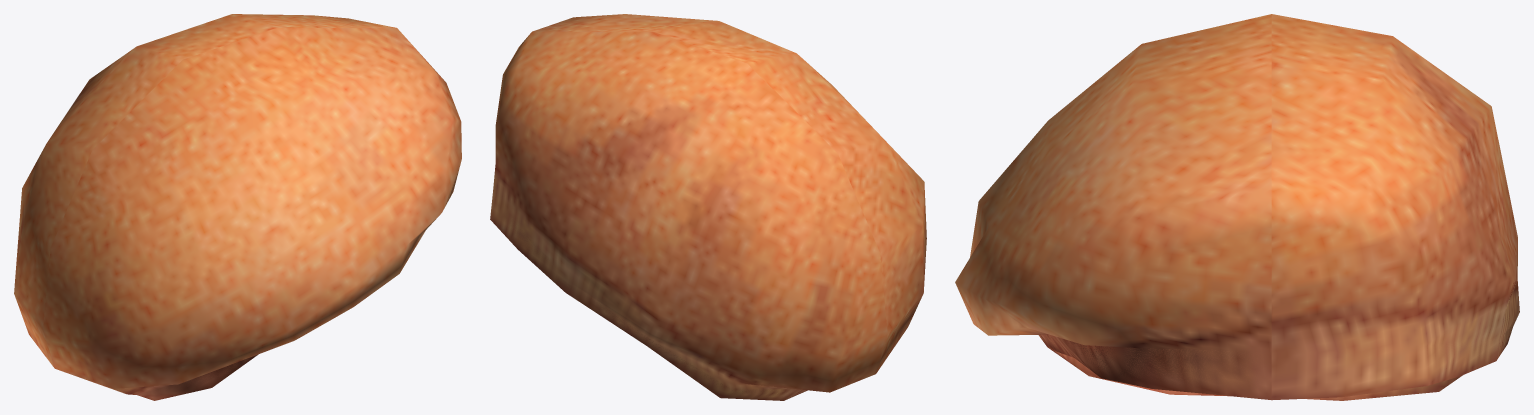
The model's file is hat_0450042.FBX.
3 views of the same model, side by side, from view 1: azimuth 30°, elevation 25°; view 2: azimuth 150°, elevation 25°; view 3: azimuth 270°, elevation 25° (orthographic). The views are drawn at different scales.
Visible parts, largest first — view 1: hat_0450042; view 2: hat_0450042; view 3: hat_0450042.
Boxes of the visible parts, bbox=[...] form: hat_0450042: bbox=[14, 14, 461, 400]; hat_0450042: bbox=[490, 14, 926, 400]; hat_0450042: bbox=[955, 14, 1519, 400].
Bounding box in the file's own units: 26.53 × 21.49 × 24.79.
